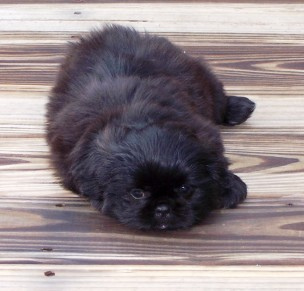dog: (44, 23, 257, 233)
